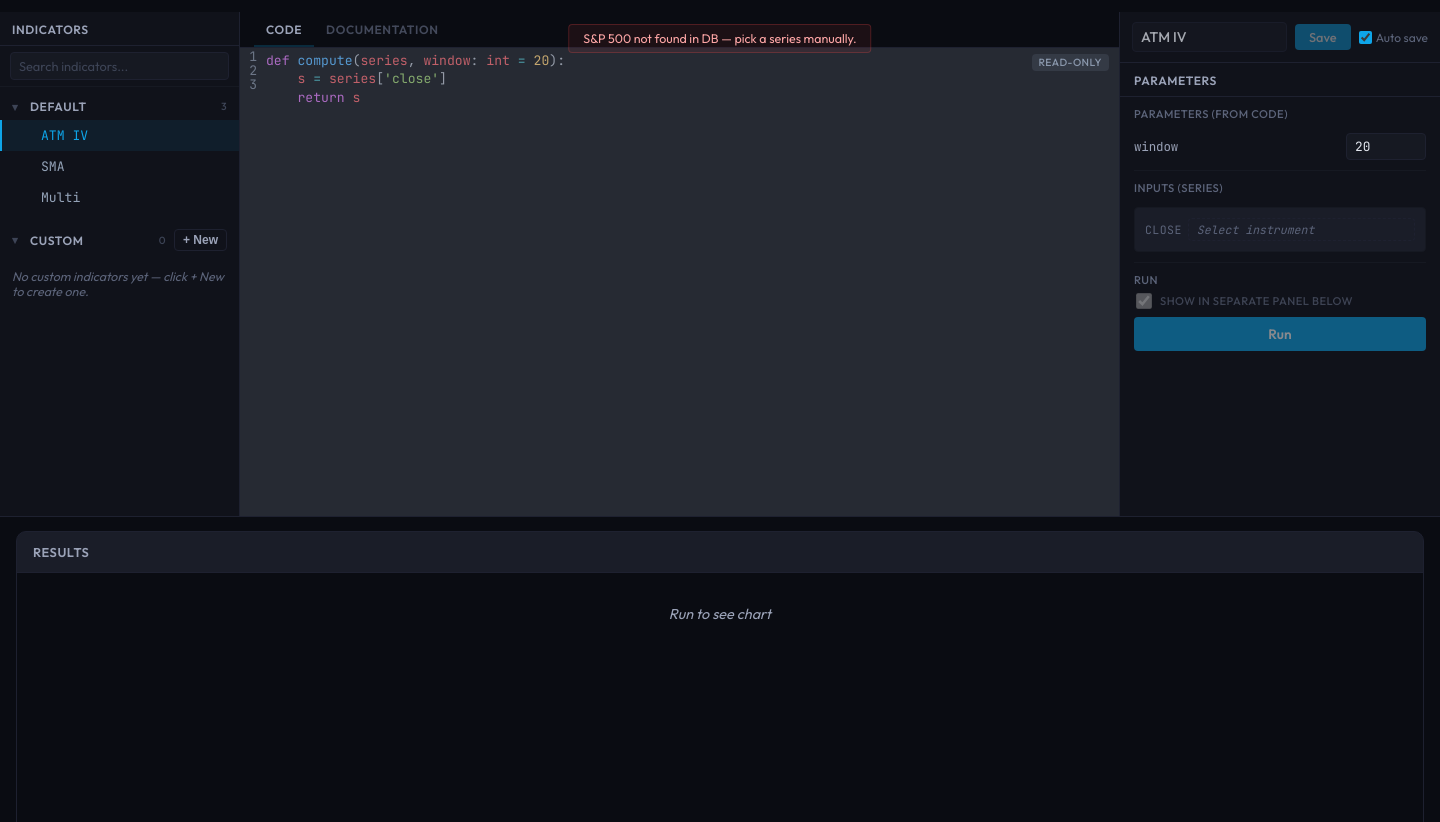
it: runIndicator asset_type forwarding › refuses to run when slots disagree on asset_type — typed validation error
# Select 'Multi' — DEFAULT section starts expanded.
Click the button "Multi" at (61, 198), box [41, 189, 80, 206]
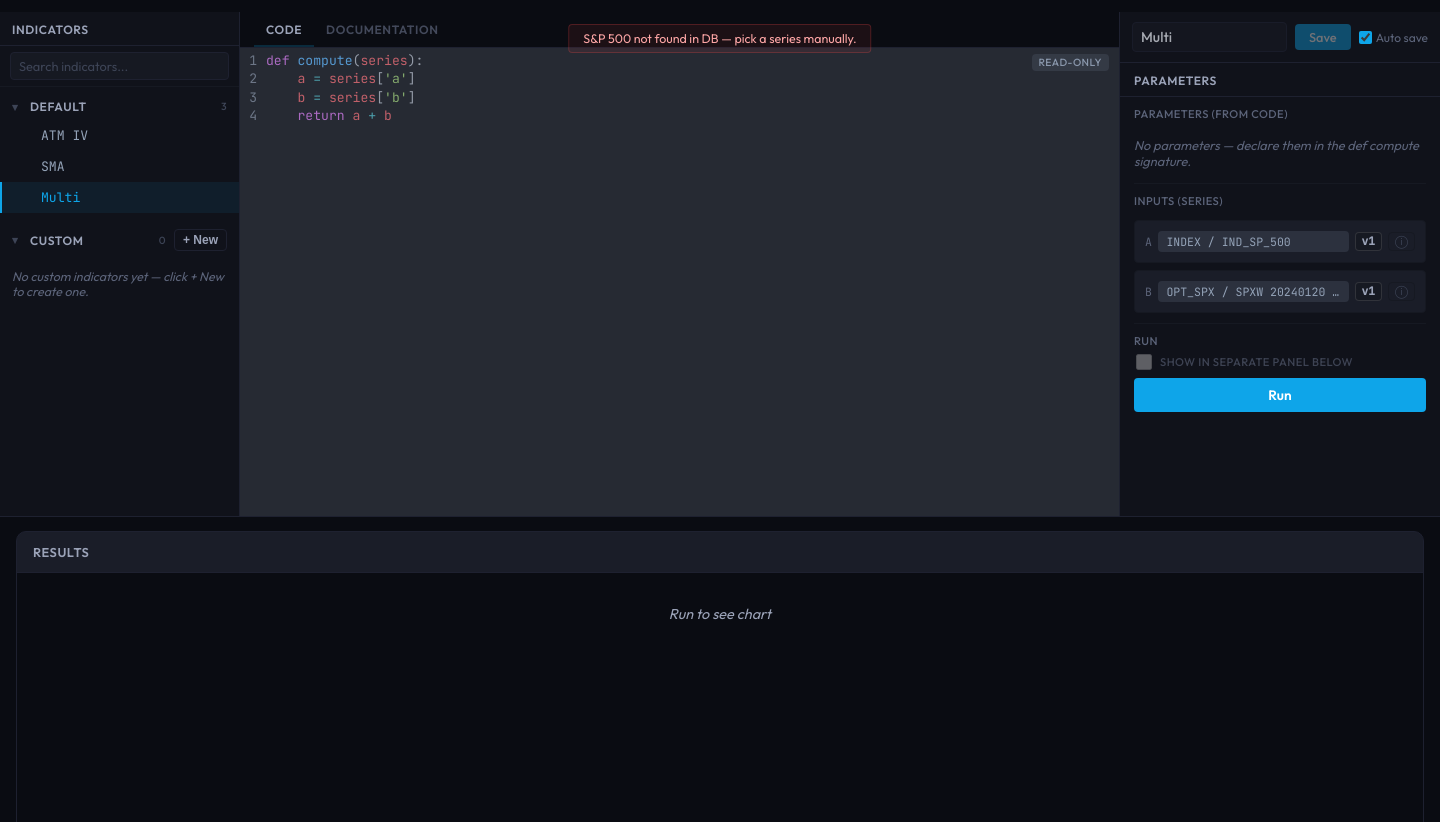
Click the button with aria-label "run indicator" at (1280, 395), box [1134, 378, 1426, 412]
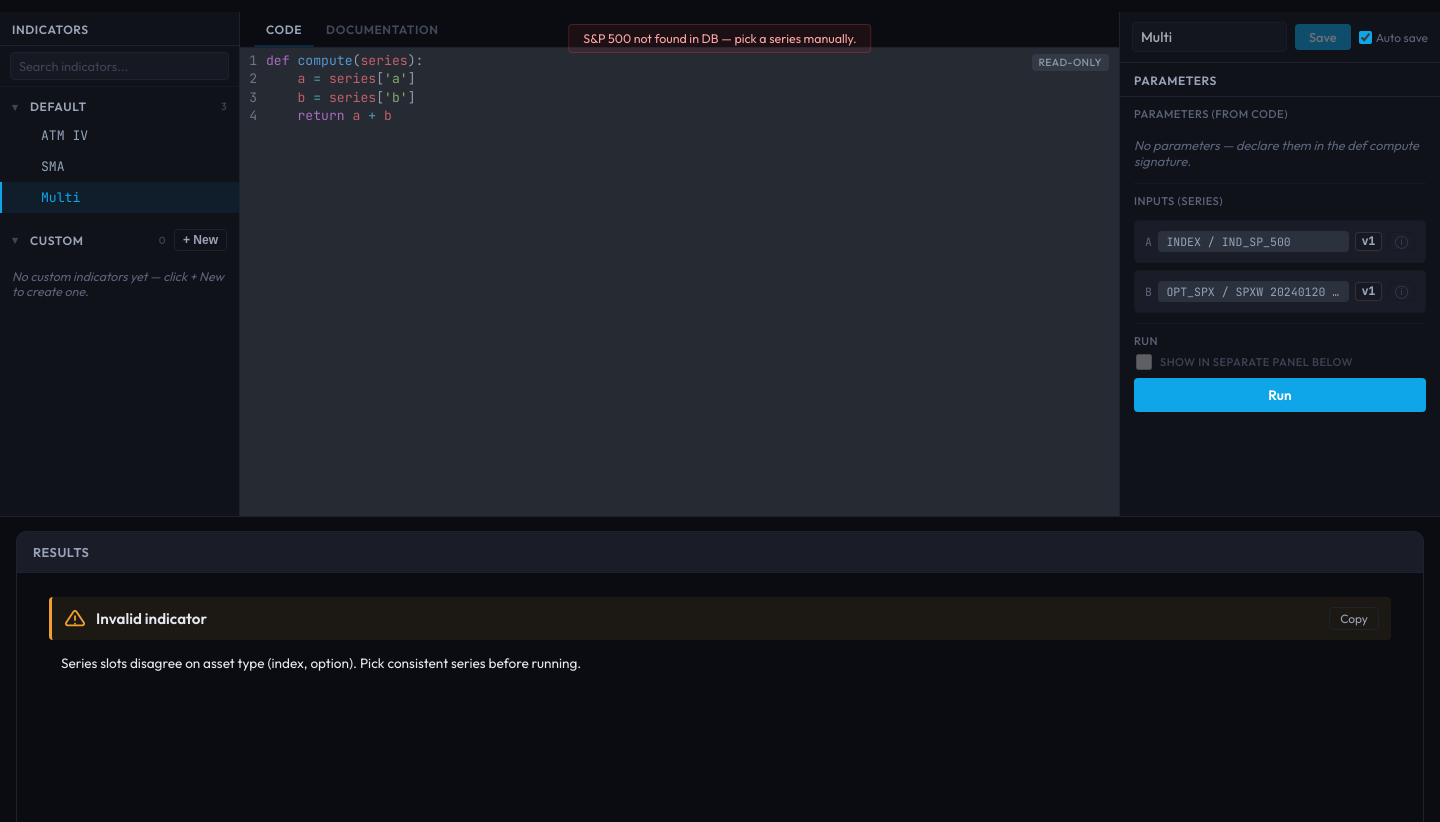
Check: the text "slots disagree on asset type" is shown, box [61, 654, 581, 672]
